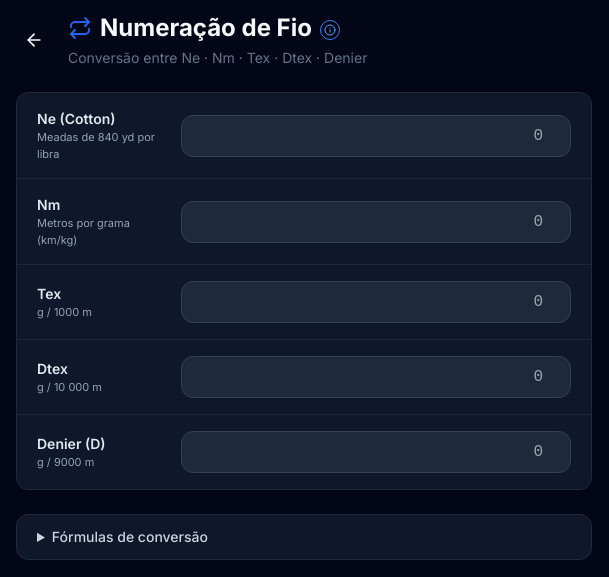
Test: ConversoresPage › converte um valor em Ne para as demais unidades
The width and height of the screenshot is (609, 577).
Type "59.05" into the number field with placeholder "0" next to "Meadas de 840 yd por libra" at (376, 136), box x1=181 y1=114 x2=571 y2=156
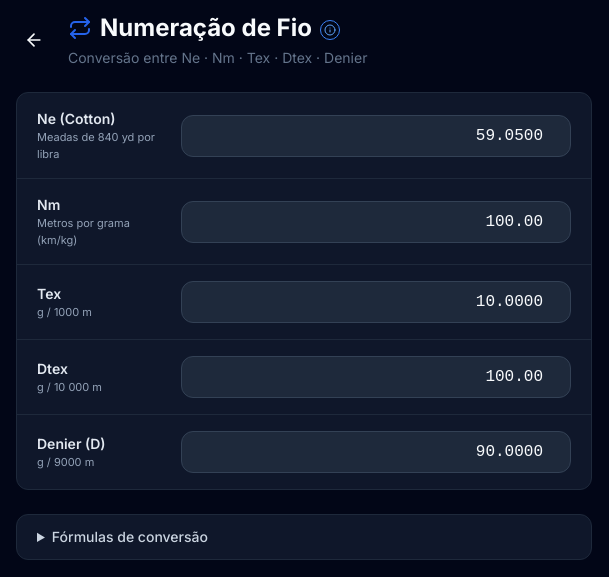
Result: the number field with placeholder "0" next to "Meadas de 840 yd por libra" holds "59.0500" at x1=181 y1=114 x2=571 y2=156
Result: the number field with placeholder "0" next to "Metros por grama (km/kg)" holds "100.00" at x1=181 y1=200 x2=571 y2=242
Result: the number field with placeholder "0" next to "g / 1000 m" holds "10.0000" at x1=181 y1=281 x2=571 y2=323
